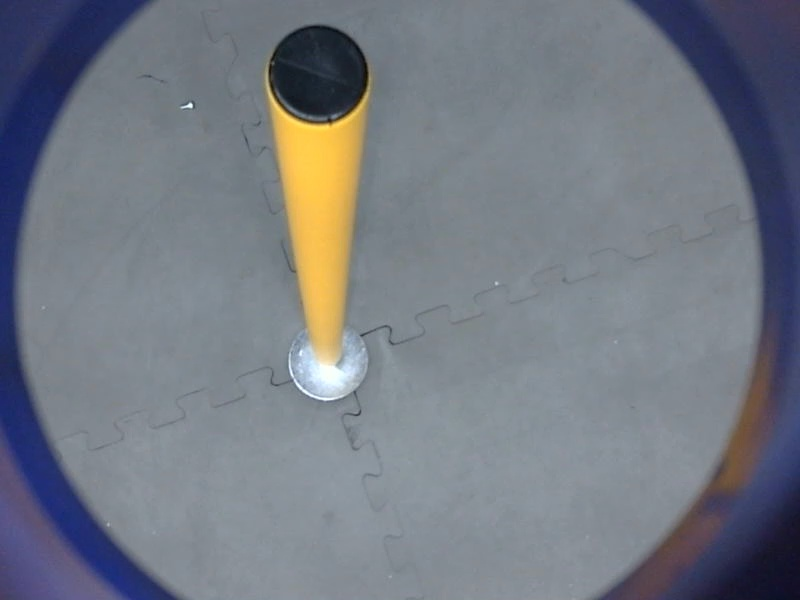tip: (261, 20, 376, 130)
